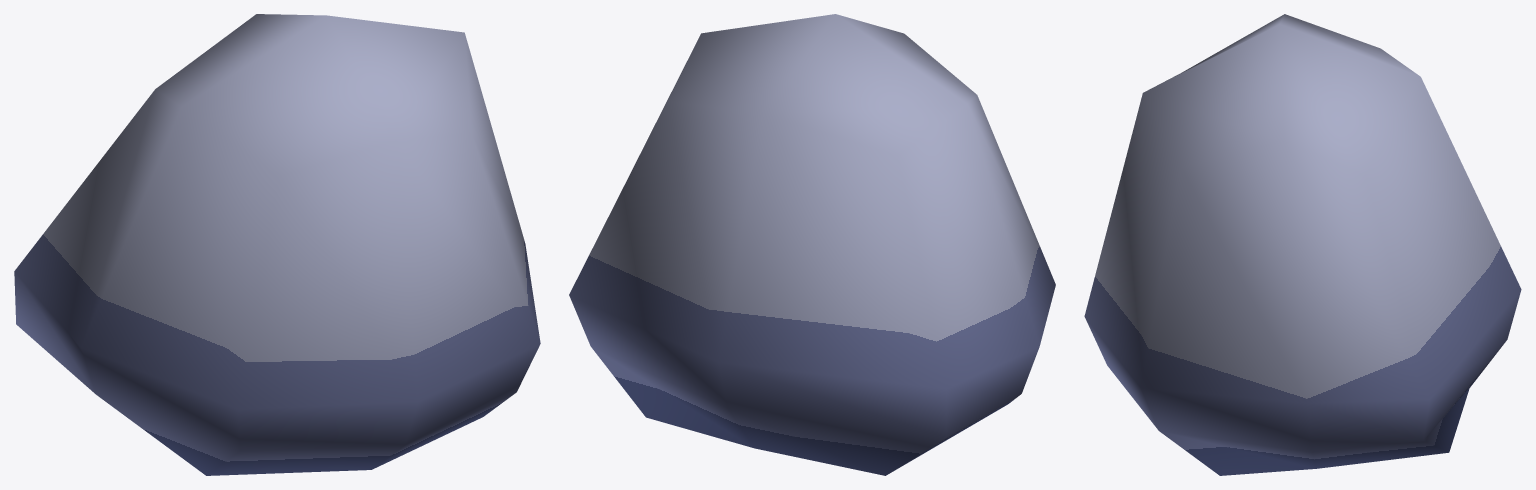
Rendered from map-rock-06.glb.
The picture shows the model from 3 angles, left to right: view 1: azimuth 30°, elevation 25°; view 2: azimuth 150°, elevation 25°; view 3: azimuth 270°, elevation 25°; orthographic projection. The views are drawn at different scales.
Visible parts, largest first — view 1: Rock06; view 2: Rock06; view 3: Rock06.
Part boxes in pixels (<box>): Rock06: <box>14,14,540,475</box>; Rock06: <box>569,14,1055,475</box>; Rock06: <box>1084,14,1521,475</box>.
Size of the model in its own units: 3.03 by 2.67 by 2.69.
1 material, 1 textured.
